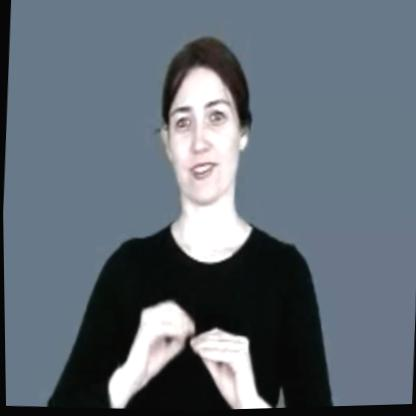Fix: (117, 270, 271, 413)
